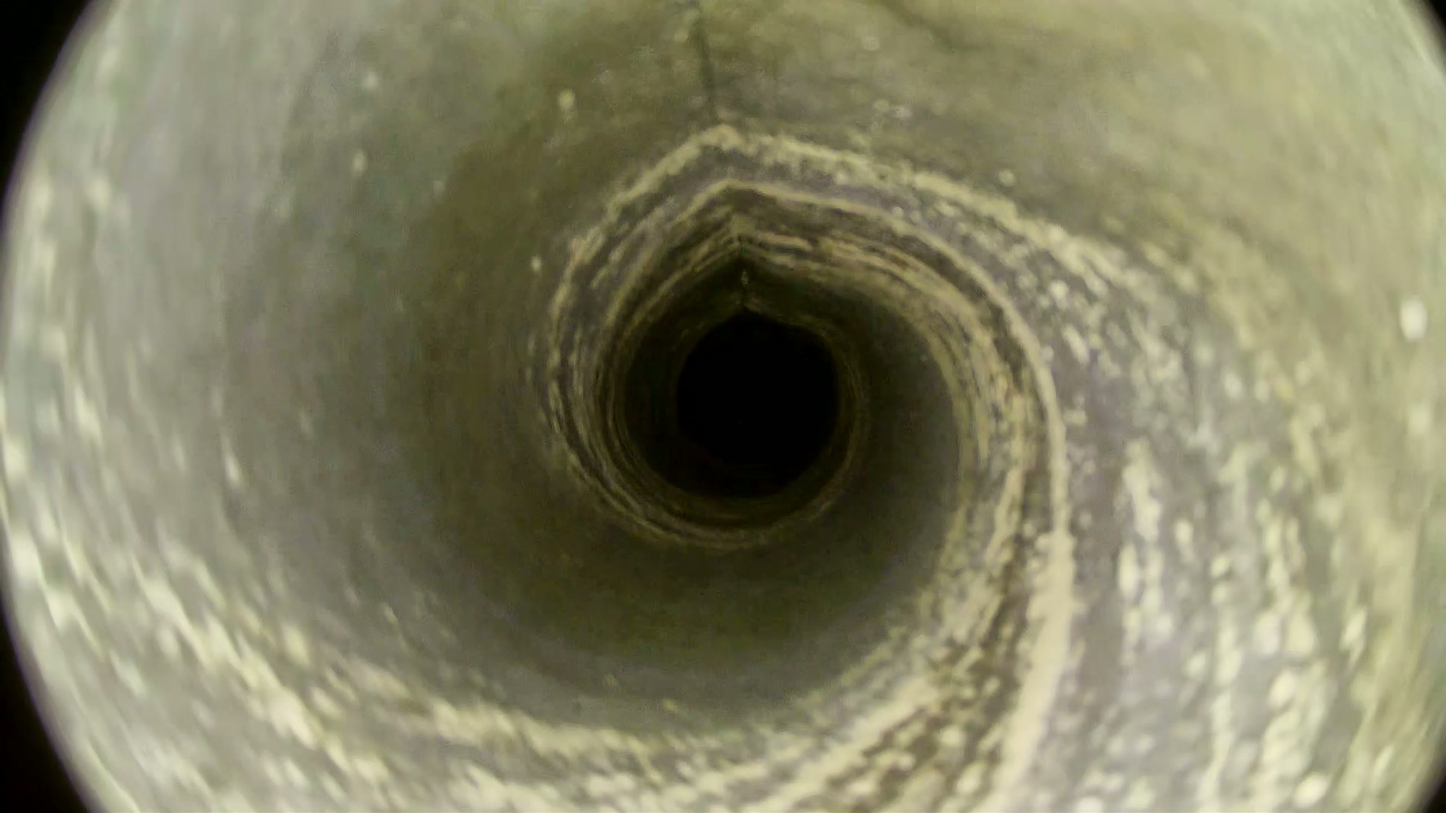hole: (680, 320, 834, 462)
